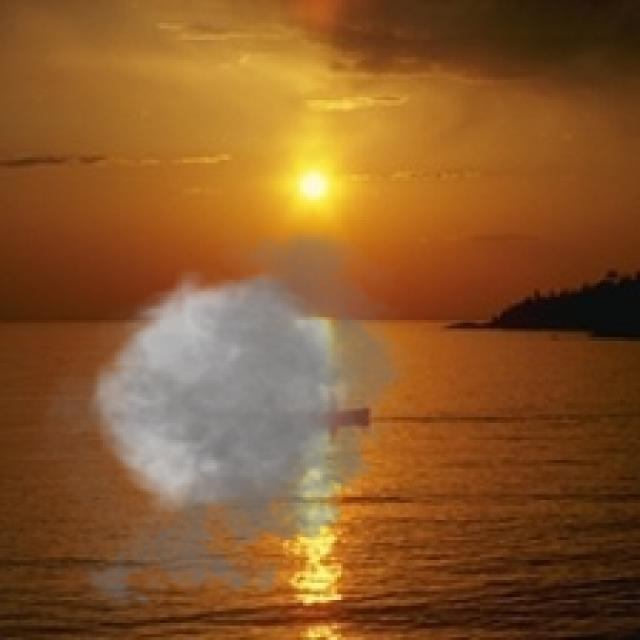smoke: (20, 214, 426, 620)
